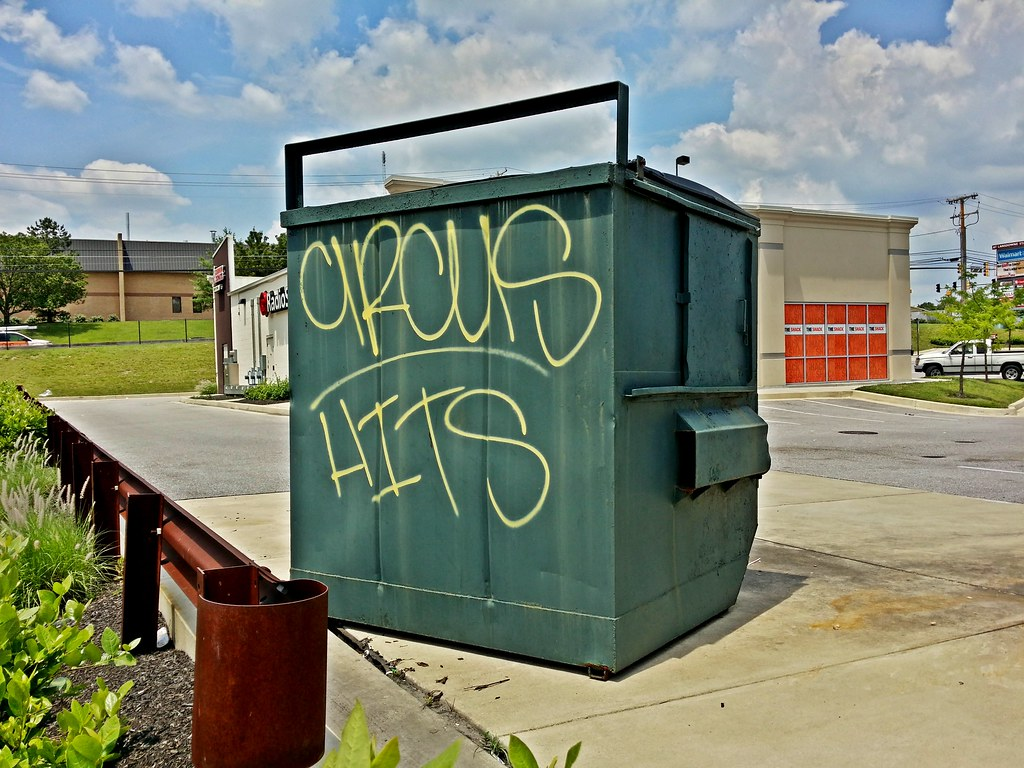Dumpster: (262, 77, 779, 693)
